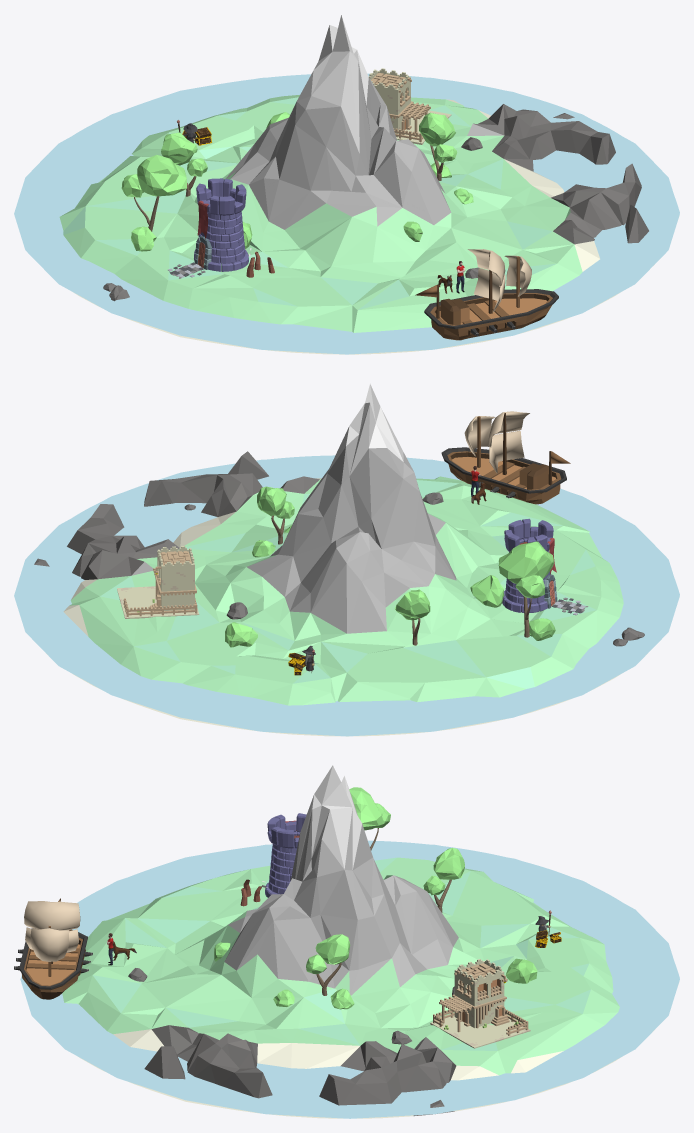
Rendered from islandScene.glb.
3 renders of one model, top to bottom at view 1: azimuth 30°, elevation 25°; view 2: azimuth 150°, elevation 25°; view 3: azimuth 270°, elevation 25°, orthographic.
Parts seen in each view (by area): view 1: pDisc1, pDisc3, object 89, tower.002_27, VoxTransform.001, pDisc4, pCube12, Hull_1, pCube15, pCube15_Leaf_Green_0.001, Sails_1, Crew_1; view 2: pDisc1, pDisc3, object 89, VoxTransform.001, pDisc4, tower.002_27, pCube12, Hull_1, Sails_1, pCube22, pCube15_Leaf_Green_0.001, pCube15 (+2 smaller); view 3: pDisc1, pDisc3, VoxTransform.001, object 89, pDisc4, tower.002_27, Sails_1, pCube12, pCube15, pCube15_Leaf_Green_0.001, Hull_1, pCube21.
Boxes of the visible parts, x1,y1,x2,y2 form: pDisc1: (59,15,679,354); pDisc3: (17,73,679,351); object 89: (415,249,552,340); tower.002_27: (194,178,248,271); VoxTransform.001: (369,68,451,144); pDisc4: (14,77,679,354); pCube12: (137,155,186,196); Hull_1: (424,289,558,329); pCube15: (419,112,455,146); pCube15_Leaf_Green_0.001: (161,132,197,165); Sails_1: (504,255,531,307); Crew_1: (440,298,469,323); pDisc1: (34,383,679,736); pDisc3: (17,455,679,733); object 89: (447,411,570,504); VoxTransform.001: (117,546,199,618); pDisc4: (14,459,679,736); tower.002_27: (502,518,553,612); pCube12: (498,541,553,584); Hull_1: (441,447,566,493); Sails_1: (464,416,494,467); pCube22: (470,575,504,607); pCube15_Leaf_Green_0.001: (394,589,430,618); pCube15: (257,486,286,515); pDisc1: (62,765,679,1118); pDisc3: (24,840,679,1115); VoxTransform.001: (430,959,530,1048); object 89: (16,898,90,999); pDisc4: (20,844,679,1118); tower.002_27: (265,813,306,897); Sails_1: (30,926,69,976); pCube12: (349,787,383,830); pCube15: (315,934,350,964); pCube15_Leaf_Green_0.001: (433,848,464,879); Hull_1: (19,932,87,989); pCube21: (506,958,537,983).
Size of the model in its own units: 143 by 52.02 by 144.
41 materials, 5 textured.
